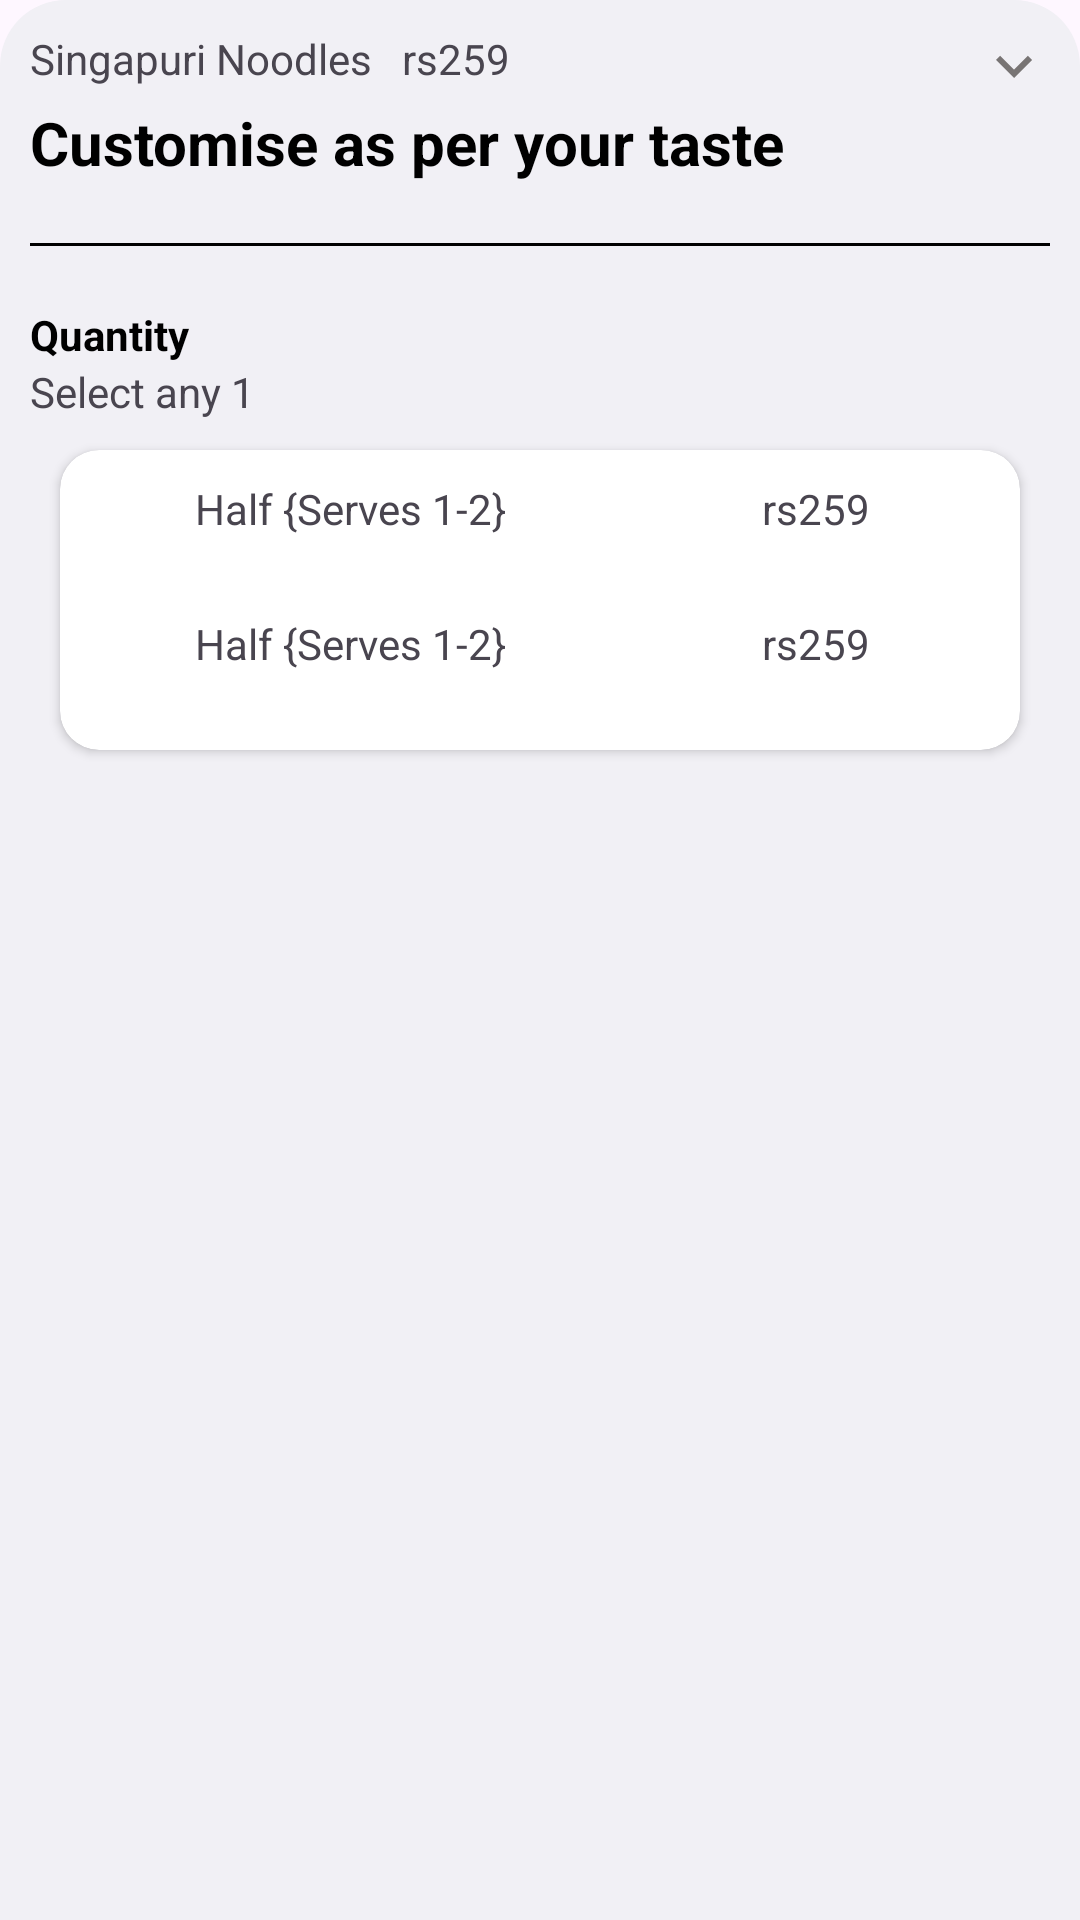

Icons on this 1080 x 1920 Android screen, each with the point to tap as (x=x, y=y):
arrow down: (x=1014, y=67)
